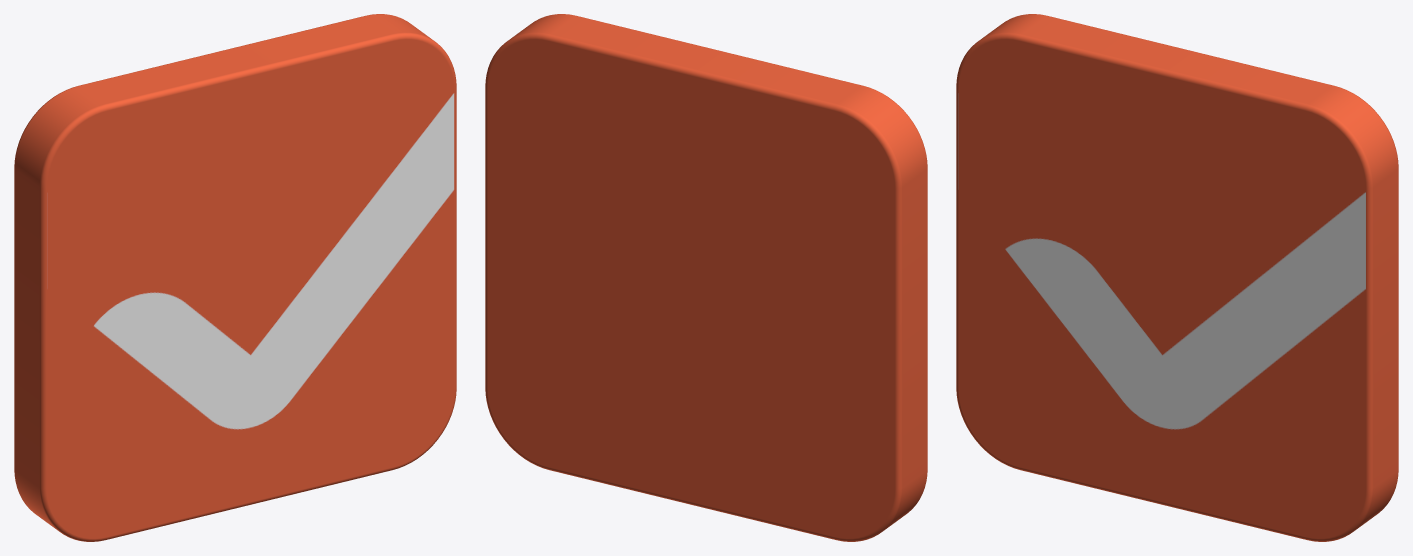
The model's file is simbolo_legalizai_proprio.glb.
The picture shows the model from 3 angles, left to right: view 1: azimuth 30°, elevation 25°; view 2: azimuth 150°, elevation 25°; view 3: azimuth 330°, elevation 25°; orthographic projection.
Parts seen in each view (by area): view 1: SimboloFace, SimboloCorpo; view 2: SimboloCorpo; view 3: SimboloFace, SimboloCorpo.
Boxes of the visible parts, left/top/right/bottom form: SimboloFace: left=47, top=39, right=454, bottom=538; SimboloCorpo: left=14, top=14, right=456, bottom=541; SimboloCorpo: left=485, top=14, right=927, bottom=541; SimboloFace: left=958, top=39, right=1365, bottom=538; SimboloCorpo: left=956, top=14, right=1398, bottom=541.
Size of the model in its own units: 0.36 by 0.36 by 0.0452.
Materials: 2 (1 with a texture image).
